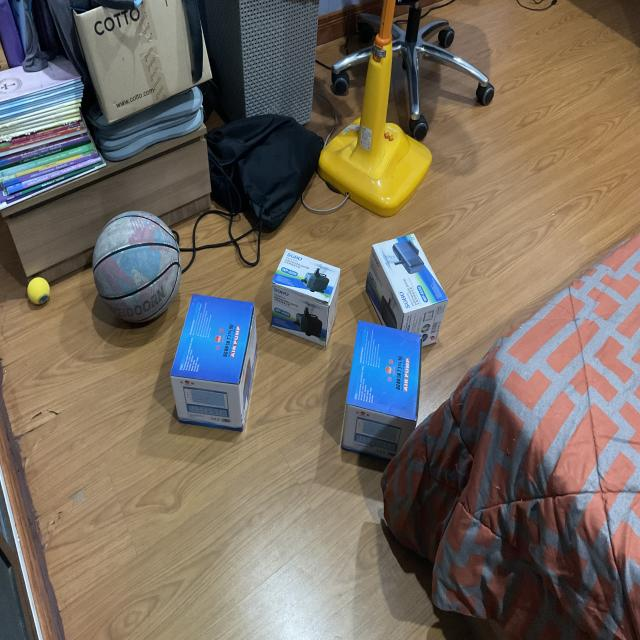SOBO_WP_4200: (350, 221, 456, 354), (265, 237, 345, 353)
YAMANO_LPP_20: (332, 306, 433, 502), (162, 287, 262, 442)
